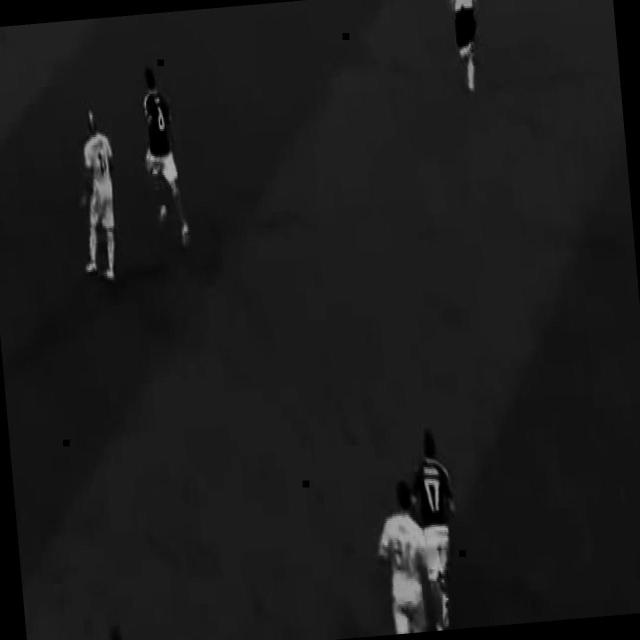player-white: (406, 428, 465, 632), (373, 480, 437, 636), (138, 65, 192, 246), (72, 110, 126, 286), (447, 0, 485, 95)
